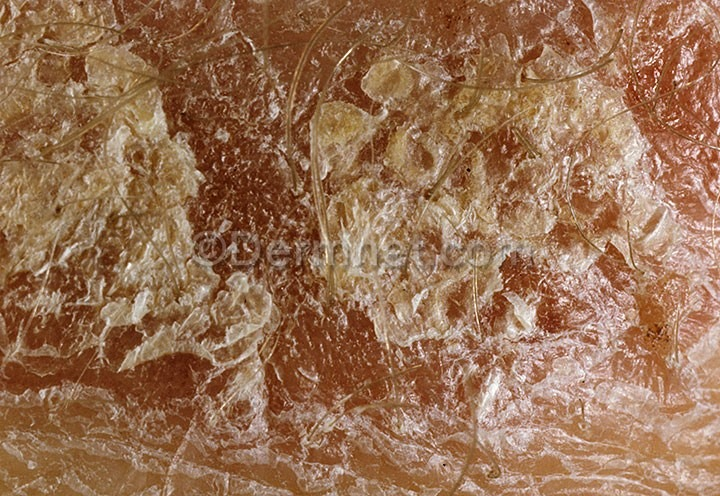Psoriasis: (15, 14, 693, 480)
